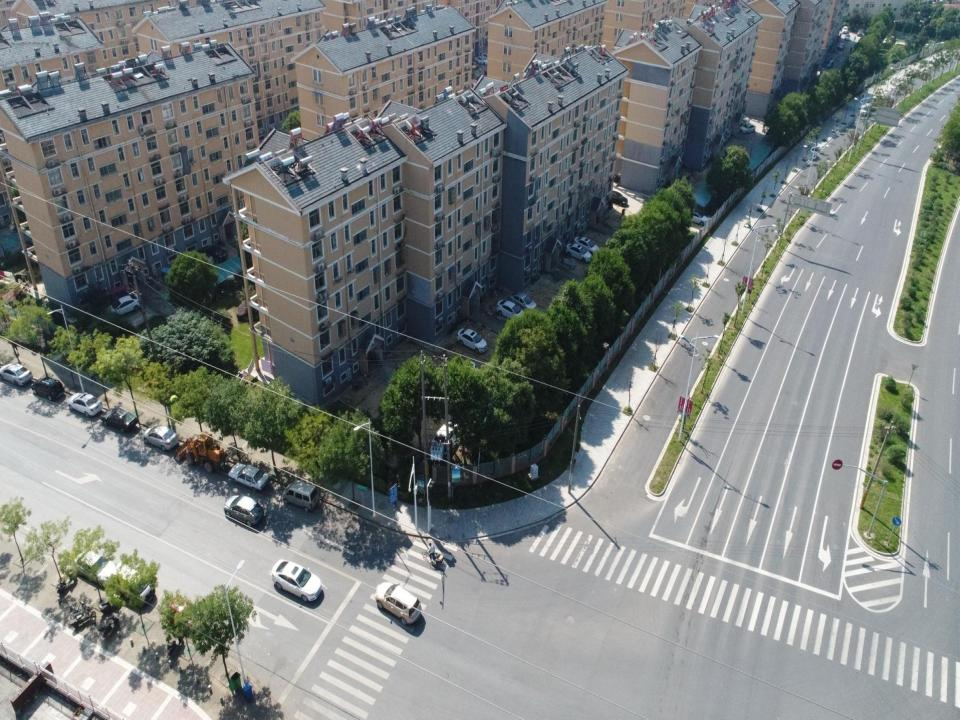car: (271, 558, 322, 602), (375, 581, 421, 627), (116, 560, 156, 610), (73, 549, 116, 588), (223, 493, 264, 527), (228, 461, 271, 492), (166, 596, 200, 632), (143, 423, 179, 452), (100, 407, 138, 433), (67, 391, 103, 418), (30, 375, 64, 402), (104, 293, 142, 317), (456, 326, 488, 354), (496, 298, 528, 324), (0, 362, 33, 387), (507, 289, 536, 313), (565, 241, 592, 264), (190, 250, 214, 272), (574, 235, 599, 256), (202, 245, 228, 263), (688, 209, 710, 226), (609, 190, 628, 207), (739, 122, 756, 135), (860, 102, 871, 115), (474, 55, 488, 65), (824, 58, 834, 69), (857, 26, 864, 36), (844, 32, 850, 42), (481, 52, 490, 58), (837, 42, 844, 49), (842, 25, 848, 33)
van: (282, 479, 320, 513)
